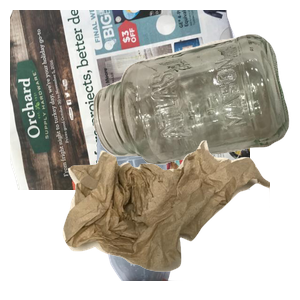glass: (91, 32, 300, 189)
paper: (10, 10, 250, 190)
plastic: (94, 120, 267, 300)
trash: (60, 138, 300, 300)
